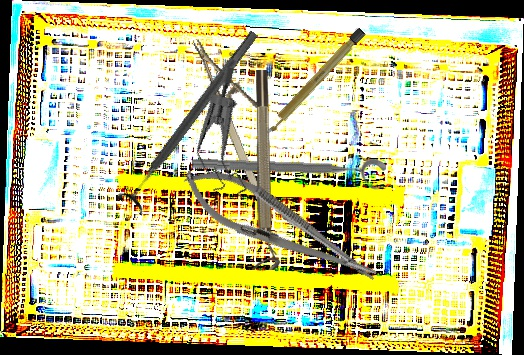Fixation Ring: (115, 23, 269, 217), (191, 152, 387, 192), (252, 70, 280, 270)
Needle Holder: (172, 152, 388, 302), (192, 26, 292, 204)
Scalpel Handle: (263, 26, 366, 137)
Speculum: (166, 64, 287, 209)
